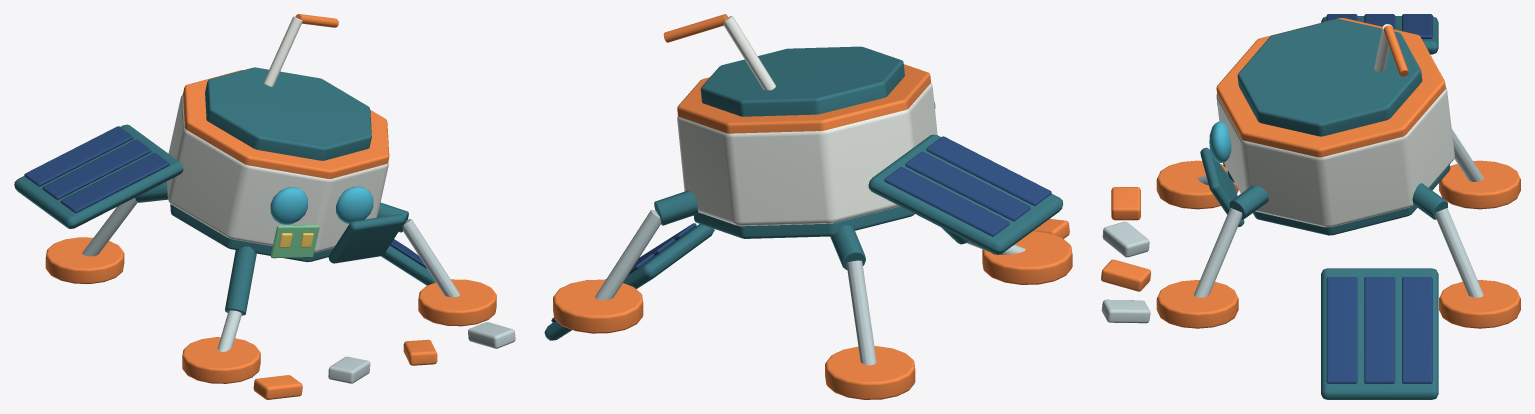
The model's file is Robotic_Lander_Wreck.glb.
The picture shows the model from 3 angles, left to right: view 1: azimuth 30°, elevation 25°; view 2: azimuth 150°, elevation 25°; view 3: azimuth 270°, elevation 25°; orthographic projection. The views are drawn at different scales.
Parts seen in each view (by area): view 1: Octagonal original survey hull, Damaged instrument cap, Orange shoulder band, Petal frame, Round lander foot.002, Round lander foot.003, Round lander foot.001, Broken service door, Petal photovoltaic cell.001, Petal photovoltaic cell.002, Petal photovoltaic cell, Articulated lander leg.002 (+13 smaller); view 2: Octagonal original survey hull, Damaged instrument cap, Orange shoulder band, Petal frame, Round lander foot.001, Round lander foot, Round lander foot.002, Petal photovoltaic cell, Petal photovoltaic cell.002, Petal photovoltaic cell.001, Teal belly, Petal frame.001 (+7 smaller); view 3: Octagonal original survey hull, Damaged instrument cap, Orange shoulder band, Petal frame.001, Petal photovoltaic cell.004, Petal photovoltaic cell.003, Petal photovoltaic cell.005, Round lander foot.003, Round lander foot, Round lander foot.001, Round lander foot.002, Teal belly (+15 smaller).
Part boxes in pixels (box(x1,y1,x2,y2)): Octagonal original survey hull: box(167, 94, 388, 252); Damaged instrument cap: box(205, 67, 371, 160); Orange shoulder band: box(183, 70, 389, 179); Petal frame: box(14, 124, 183, 228); Round lander foot.002: box(182, 337, 260, 383); Round lander foot.003: box(418, 279, 496, 326); Round lander foot.001: box(45, 237, 124, 283); Broken service door: box(328, 214, 405, 263); Petal photovoltaic cell.001: box(42, 139, 151, 199); Petal photovoltaic cell.002: box(24, 126, 133, 186); Petal photovoltaic cell: box(60, 153, 169, 212); Articulated lander leg.002: box(225, 246, 256, 315); Octagonal original survey hull: box(677, 82, 937, 226); Damaged instrument cap: box(700, 46, 904, 116); Orange shoulder band: box(677, 64, 930, 133); Petal frame: box(868, 134, 1063, 254); Round lander foot.001: box(825, 346, 915, 399); Round lander foot: box(553, 279, 643, 333); Round lander foot.002: box(982, 231, 1072, 284); Petal photovoltaic cell: box(926, 136, 1051, 205); Petal photovoltaic cell.002: box(884, 167, 1009, 236); Petal photovoltaic cell.001: box(905, 151, 1030, 221); Teal belly: box(693, 206, 914, 238); Petal frame.001: box(544, 224, 714, 340); Octagonal original survey hull: box(1216, 86, 1454, 227); Damaged instrument cap: box(1237, 19, 1422, 136); Orange shoulder band: box(1216, 18, 1445, 157); Petal frame.001: box(1321, 268, 1438, 399); Petal photovoltaic cell.004: box(1364, 277, 1395, 383); Petal photovoltaic cell.003: box(1326, 277, 1357, 383); Petal photovoltaic cell.005: box(1402, 277, 1432, 383); Round lander foot.003: box(1156, 280, 1238, 328); Round lander foot: box(1439, 280, 1520, 328); Round lander foot.001: box(1439, 160, 1520, 209); Round lander foot.002: box(1156, 160, 1238, 209); Teal belly: box(1253, 164, 1450, 235).
Bounding box in the file's own units: 2.91 × 2.09 × 2.57.
